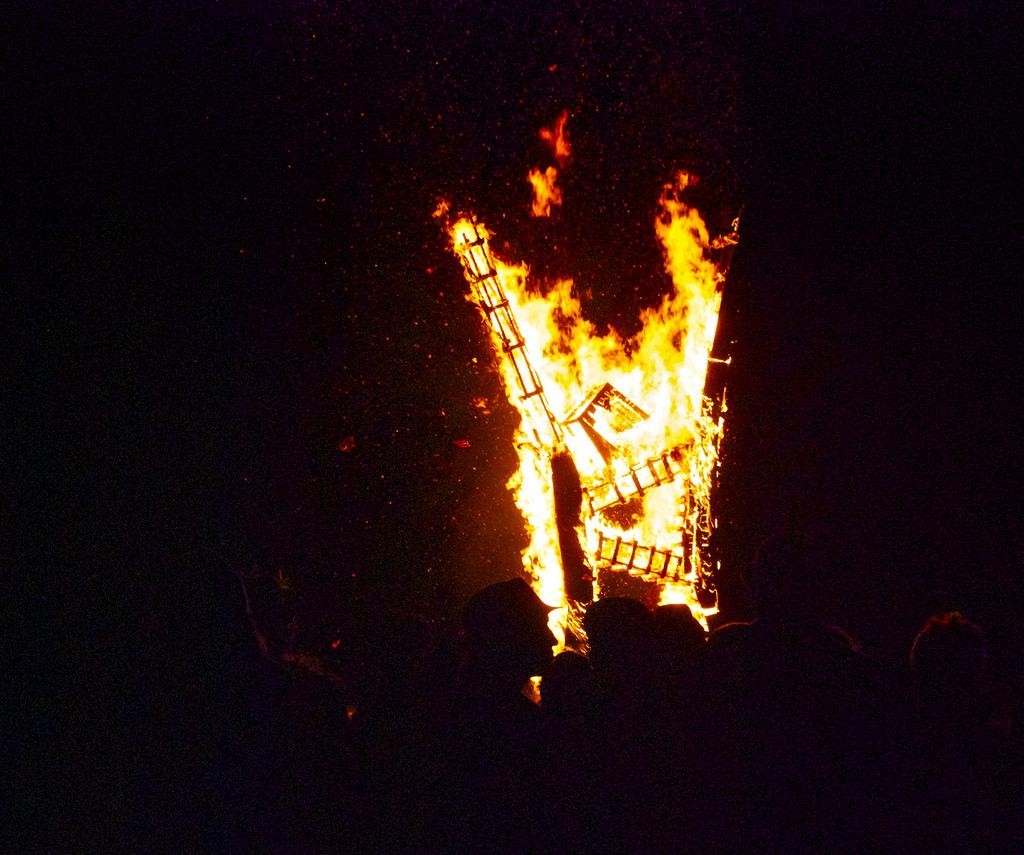fire: (504, 296, 632, 450), (650, 248, 720, 444)
